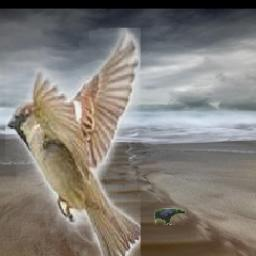Crow: (155, 208, 186, 225)
Sparrow: (6, 28, 142, 256)
